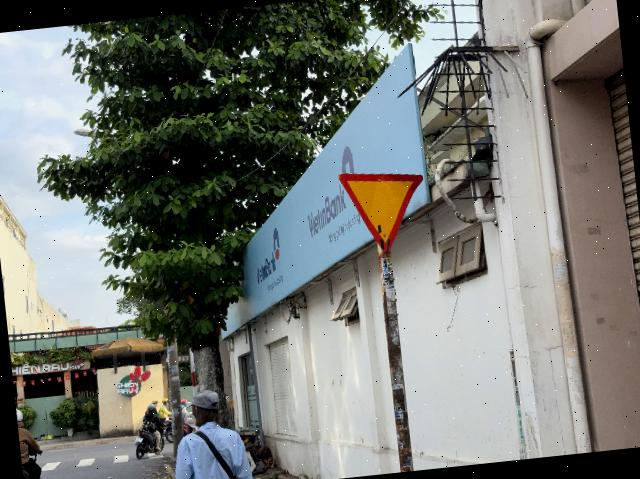giao-nhau-voi-duong-uu-tien: (338, 164, 432, 256)
